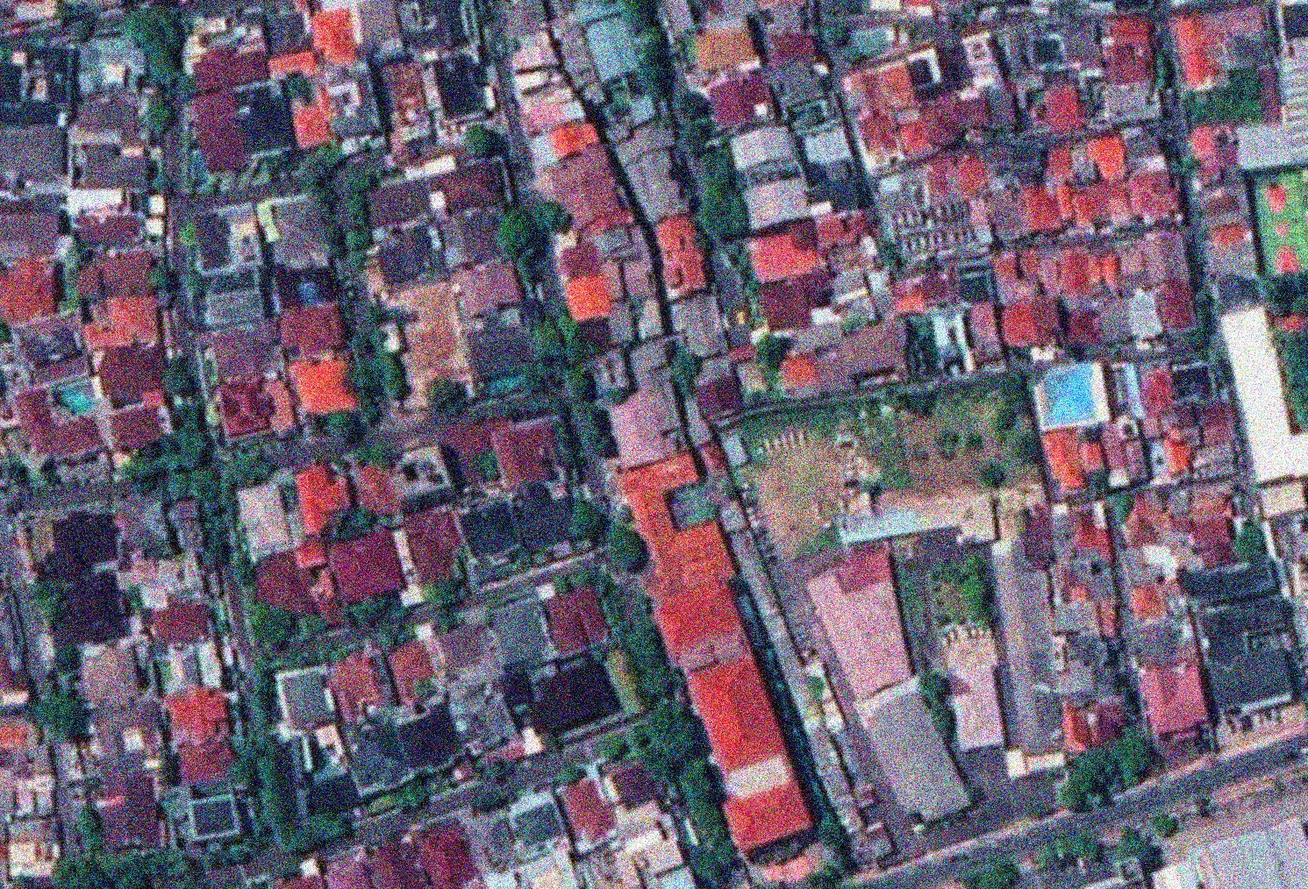building: (717, 499, 889, 854), (647, 576, 822, 860), (802, 538, 939, 705), (979, 539, 1066, 782), (602, 449, 736, 604), (854, 677, 975, 833), (1215, 303, 1308, 489), (1191, 590, 1308, 720), (496, 641, 628, 755), (836, 490, 1001, 572), (437, 409, 571, 503), (1153, 816, 1308, 889), (0, 380, 108, 477), (608, 123, 696, 232), (542, 141, 635, 235), (397, 502, 479, 607), (504, 470, 592, 566), (442, 678, 525, 779), (589, 220, 665, 327), (210, 369, 303, 456), (5, 309, 97, 396), (336, 712, 427, 799), (34, 506, 127, 588), (355, 221, 448, 303), (227, 473, 310, 564), (649, 210, 719, 316), (766, 51, 849, 139), (320, 641, 400, 732), (89, 384, 177, 466), (458, 305, 544, 388), (41, 576, 129, 657), (80, 700, 167, 781), (1020, 362, 1115, 436), (322, 527, 409, 607), (889, 202, 992, 269), (1175, 554, 1295, 611), (641, 211, 713, 304), (90, 772, 170, 854), (76, 185, 161, 262), (942, 640, 1000, 752), (546, 768, 621, 854), (0, 42, 77, 125), (455, 494, 528, 581), (675, 17, 762, 90), (482, 597, 557, 680), (616, 814, 699, 889), (253, 190, 329, 271), (743, 214, 827, 287), (184, 201, 262, 279), (621, 342, 683, 440), (379, 438, 456, 516), (284, 346, 361, 424), (379, 63, 439, 163), (1198, 184, 1259, 282), (381, 636, 453, 719), (391, 702, 467, 780), (1140, 666, 1215, 745), (539, 582, 613, 662), (285, 459, 356, 542), (428, 617, 505, 693), (981, 239, 1061, 312), (202, 318, 282, 390), (401, 812, 475, 889), (1000, 296, 1081, 365), (251, 543, 319, 625), (731, 165, 810, 235), (600, 389, 668, 470), (501, 10, 565, 96), (592, 757, 667, 830), (272, 299, 350, 369), (715, 498, 773, 592), (429, 152, 510, 219), (193, 266, 275, 331), (501, 787, 574, 860), (778, 343, 861, 407), (268, 664, 336, 741), (455, 798, 522, 876), (120, 498, 199, 564), (187, 90, 246, 178), (318, 59, 381, 141), (234, 80, 294, 165), (0, 121, 75, 188), (838, 59, 916, 123), (555, 239, 613, 325), (679, 350, 747, 423), (80, 292, 161, 353), (129, 548, 206, 612), (92, 342, 169, 406), (703, 74, 776, 141), (266, 253, 350, 311), (552, 23, 608, 110), (431, 209, 505, 273), (71, 91, 157, 146), (187, 36, 268, 94), (271, 737, 322, 826), (759, 274, 837, 332), (447, 262, 521, 322), (281, 70, 337, 149), (78, 36, 149, 98), (0, 195, 66, 261), (71, 144, 161, 192), (0, 259, 60, 331), (668, 294, 730, 363), (428, 52, 486, 125), (1273, 37, 1306, 165), (580, 16, 640, 86), (798, 154, 863, 218), (720, 120, 794, 176), (164, 685, 230, 747), (1075, 170, 1135, 238), (178, 780, 242, 843), (837, 319, 906, 377), (77, 648, 143, 707), (361, 177, 433, 231), (1131, 616, 1201, 671), (0, 750, 54, 819), (753, 22, 822, 76), (1054, 247, 1116, 307), (930, 310, 979, 384), (1187, 125, 1243, 188), (1100, 292, 1161, 349), (156, 643, 220, 697), (1218, 6, 1272, 70), (852, 111, 905, 176), (175, 737, 241, 789), (1119, 175, 1186, 226), (1171, 398, 1236, 450), (1113, 497, 1173, 553), (78, 254, 157, 296), (2, 819, 59, 877), (1119, 126, 1178, 182), (1119, 360, 1171, 423), (520, 87, 586, 136), (1013, 183, 1066, 243), (68, 188, 161, 222), (364, 840, 428, 889), (1141, 231, 1194, 289), (1038, 428, 1087, 490), (887, 102, 936, 164), (809, 203, 873, 250), (1121, 578, 1186, 624), (823, 238, 886, 285), (301, 771, 360, 821), (959, 31, 1008, 91), (871, 169, 930, 218), (943, 89, 991, 147), (1236, 124, 1295, 171), (966, 305, 1005, 376), (148, 602, 208, 648), (1152, 279, 1201, 335), (545, 114, 601, 162), (919, 93, 963, 154), (1211, 267, 1265, 316), (1039, 81, 1086, 137), (1119, 542, 1175, 589), (562, 274, 612, 326), (1166, 357, 1219, 406), (505, 29, 558, 77), (916, 264, 964, 316), (574, 204, 636, 244), (1173, 53, 1229, 97), (1042, 137, 1088, 190), (1185, 440, 1240, 484), (933, 40, 977, 95), (514, 853, 583, 888), (573, 849, 633, 889), (790, 316, 847, 358), (351, 464, 394, 519), (794, 125, 850, 167), (1019, 507, 1056, 570), (1098, 422, 1133, 488), (1053, 600, 1113, 638), (904, 48, 946, 102), (305, 32, 359, 72), (1108, 41, 1158, 84), (1176, 15, 1231, 54), (1063, 311, 1107, 359), (985, 193, 1026, 244), (0, 645, 32, 710), (1081, 141, 1127, 185), (948, 157, 988, 207), (361, 24, 405, 69), (1110, 87, 1162, 125), (1067, 568, 1120, 605), (591, 346, 631, 395), (1257, 482, 1308, 520), (1046, 502, 1108, 533), (322, 853, 375, 889), (1184, 510, 1234, 548), (919, 157, 958, 205), (1187, 487, 1239, 523), (1008, 141, 1045, 191), (1089, 857, 1146, 889), (888, 276, 926, 323), (0, 711, 39, 756), (836, 295, 880, 334), (1189, 536, 1237, 571), (576, 315, 616, 357), (1066, 531, 1113, 566), (1056, 630, 1119, 656), (1162, 426, 1193, 478), (1029, 33, 1064, 79), (1110, 251, 1147, 294), (984, 89, 1017, 137), (829, 269, 871, 306), (621, 257, 655, 302), (733, 355, 768, 398), (397, 33, 452, 60), (265, 53, 315, 82), (958, 260, 989, 306), (634, 297, 666, 341), (1071, 438, 1108, 476), (1063, 31, 1104, 65), (696, 440, 730, 481), (719, 431, 753, 472), (606, 301, 636, 346), (624, 92, 661, 128), (527, 132, 560, 172), (592, 224, 633, 256), (1004, 33, 1031, 81), (603, 111, 638, 148), (982, 152, 1015, 191), (1104, 20, 1146, 45), (315, 597, 346, 630), (871, 287, 899, 323), (290, 544, 326, 571), (728, 339, 759, 367), (280, 875, 326, 889), (407, 608, 436, 628), (687, 399, 694, 429)
tree: (635, 689, 713, 771), (685, 151, 748, 247), (25, 684, 97, 753), (1067, 742, 1131, 805), (1102, 729, 1163, 791), (485, 204, 545, 266), (1272, 332, 1308, 431), (667, 106, 727, 165), (271, 811, 349, 856), (595, 522, 655, 579), (289, 138, 345, 196), (617, 614, 666, 676), (158, 427, 215, 480), (20, 576, 72, 634), (670, 756, 722, 813), (594, 575, 634, 647), (1185, 97, 1262, 134), (245, 603, 300, 653), (217, 452, 275, 499), (570, 402, 615, 461), (114, 451, 171, 497), (919, 673, 956, 743), (122, 4, 184, 45), (682, 841, 729, 889), (663, 348, 709, 396), (956, 856, 1022, 889), (636, 28, 667, 98), (721, 242, 761, 296), (531, 197, 577, 243), (1052, 774, 1097, 820), (1225, 519, 1270, 565), (957, 573, 994, 628), (687, 802, 730, 848), (339, 360, 384, 403), (418, 375, 463, 418), (1263, 273, 1307, 316), (138, 97, 181, 140), (809, 813, 851, 857), (528, 316, 567, 363), (1034, 836, 1084, 872), (387, 778, 431, 818), (317, 407, 361, 447), (251, 657, 275, 729), (376, 345, 406, 402), (144, 36, 175, 89), (51, 862, 111, 889), (997, 373, 1033, 418), (566, 499, 606, 539), (98, 857, 147, 889), (372, 620, 418, 654), (330, 509, 378, 541), (199, 483, 238, 522), (638, 662, 677, 701), (457, 120, 495, 159), (551, 419, 580, 470), (752, 332, 790, 370), (707, 835, 744, 874), (635, 744, 671, 784), (279, 70, 313, 112), (221, 756, 258, 794), (558, 332, 596, 369), (0, 457, 39, 493), (796, 862, 846, 889), (134, 851, 171, 886), (1101, 489, 1136, 526), (256, 785, 284, 830), (817, 16, 853, 51), (1072, 832, 1108, 867), (547, 304, 581, 341), (168, 401, 206, 434), (498, 400, 560, 420), (364, 595, 408, 623), (948, 379, 1001, 402), (672, 86, 702, 126), (159, 359, 191, 396), (903, 387, 941, 418), (186, 468, 221, 501), (516, 362, 549, 397), (623, 1, 654, 37), (476, 761, 520, 786), (158, 848, 192, 880), (1205, 355, 1236, 390), (341, 194, 370, 231), (142, 261, 174, 294), (469, 450, 501, 483), (467, 788, 506, 815), (342, 222, 374, 254), (70, 808, 103, 839), (341, 171, 376, 200), (296, 612, 328, 643), (514, 254, 543, 288), (562, 369, 591, 403), (993, 401, 1015, 445), (201, 512, 233, 542), (622, 722, 652, 754), (829, 845, 859, 877), (874, 383, 906, 413), (303, 181, 336, 210), (1113, 829, 1142, 862), (47, 648, 81, 676), (537, 355, 568, 385), (321, 222, 347, 257), (1084, 471, 1113, 502), (157, 749, 182, 784), (1148, 54, 1173, 89), (1013, 435, 1042, 465), (203, 537, 234, 565), (232, 737, 263, 765), (934, 433, 961, 465), (1190, 306, 1217, 338), (78, 831, 103, 865), (254, 732, 283, 761), (417, 582, 443, 614), (978, 464, 1010, 490), (937, 563, 969, 589), (554, 764, 587, 789), (353, 445, 394, 465), (147, 171, 175, 200), (436, 579, 463, 608), (796, 105, 826, 131), (278, 648, 306, 675), (623, 644, 644, 680), (161, 476, 192, 500), (253, 756, 276, 788), (68, 19, 95, 46), (229, 558, 257, 584), (1175, 150, 1200, 179), (171, 69, 197, 96), (342, 603, 369, 629), (906, 444, 933, 470), (1241, 73, 1266, 101), (880, 241, 904, 270), (840, 48, 870, 71), (363, 305, 390, 330), (629, 682, 654, 709), (174, 225, 200, 250), (599, 737, 625, 762), (599, 387, 630, 407), (1178, 329, 1204, 352), (367, 327, 388, 355), (689, 231, 712, 256), (961, 434, 986, 457), (227, 843, 250, 867), (655, 769, 678, 793), (266, 153, 291, 175), (274, 860, 301, 880), (571, 569, 599, 588), (435, 610, 459, 632), (316, 645, 348, 661), (51, 2, 73, 25), (1225, 75, 1246, 99), (244, 798, 266, 820), (966, 553, 985, 578), (70, 243, 92, 264), (416, 681, 437, 703), (480, 597, 504, 616), (120, 588, 141, 609), (239, 836, 259, 856), (177, 876, 207, 889), (62, 296, 86, 312), (184, 271, 202, 292), (549, 575, 568, 594), (30, 33, 50, 51), (347, 249, 366, 267), (201, 850, 219, 868), (1193, 292, 1211, 310), (12, 875, 34, 889), (1211, 88, 1229, 105), (250, 819, 266, 836), (260, 1, 277, 17), (353, 140, 369, 156), (216, 850, 231, 866), (361, 408, 376, 424), (377, 514, 395, 527), (181, 137, 196, 152), (635, 597, 649, 613), (514, 549, 529, 563), (201, 183, 216, 196), (1183, 95, 1196, 107), (282, 0, 294, 12), (182, 181, 194, 191), (0, 44, 8, 58)
